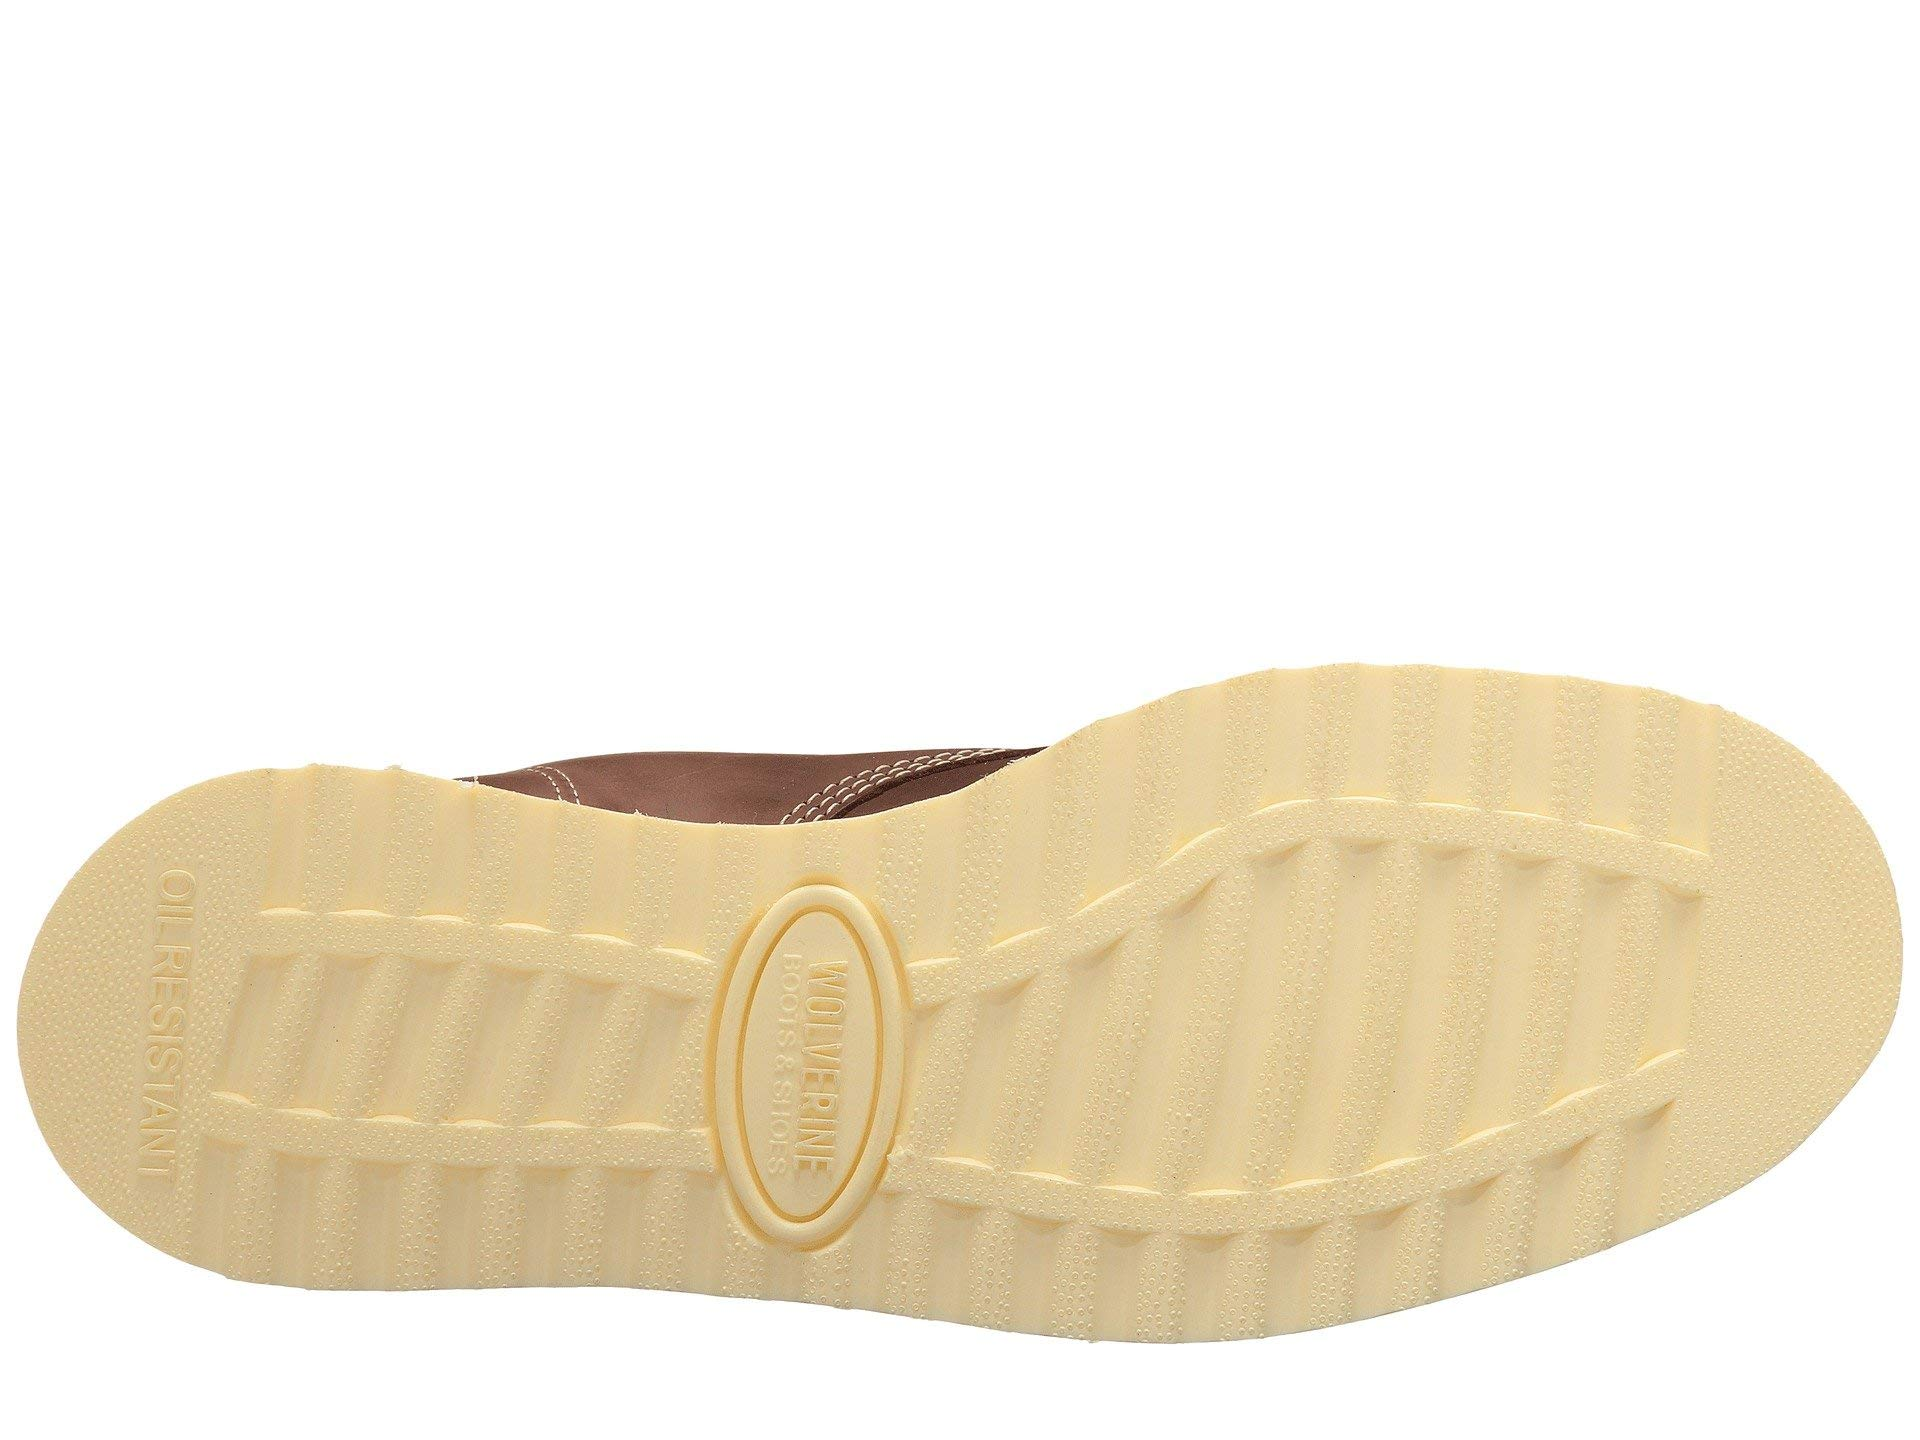circle: (546, 846, 1048, 1271)
quad: (546, 846, 1048, 1271)
text: (546, 846, 1048, 1271)
